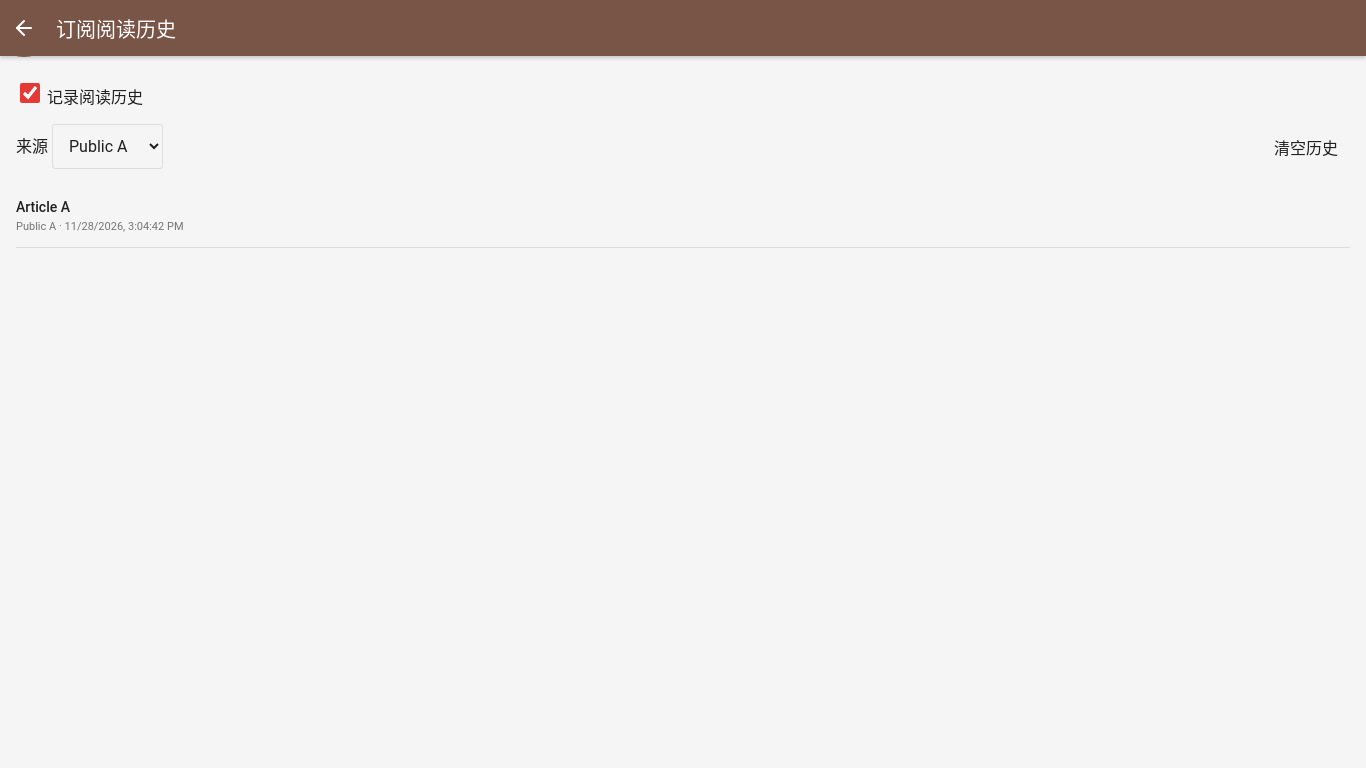
Scenario: filters by source and confirms only the displayed scope with a count, including cancelled global clear
Later steps or results of the test are not shown.
Check: the number of elements with class "source-row" is 1, box 16,185 -> 1350,248
Click the button "清空历史". click: click(1306, 146)
box: 1262,126 -> 1350,166
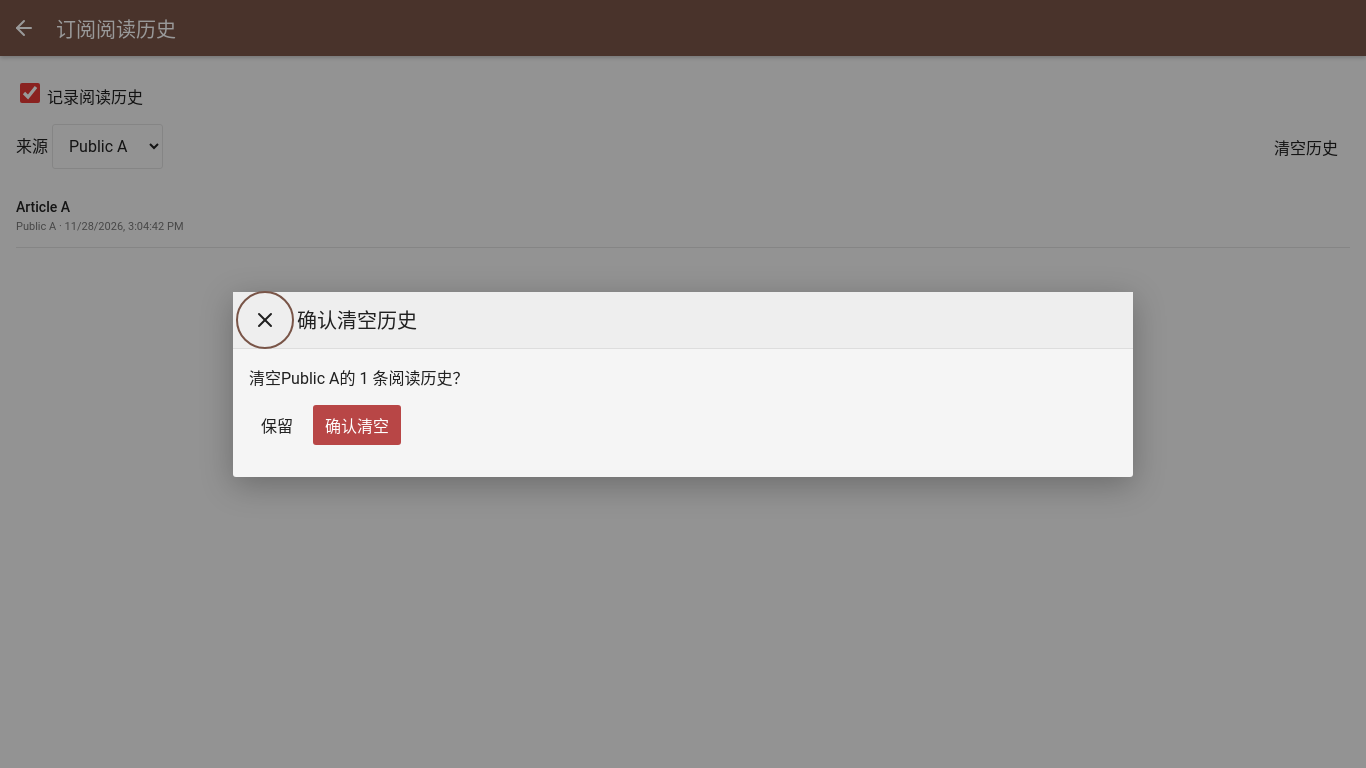
Check: the text "Public A的 1 条阅读历史" is shown, box 249,368 -> 468,388
Click the button "保留". click: click(277, 424)
box: 249,404 -> 305,444
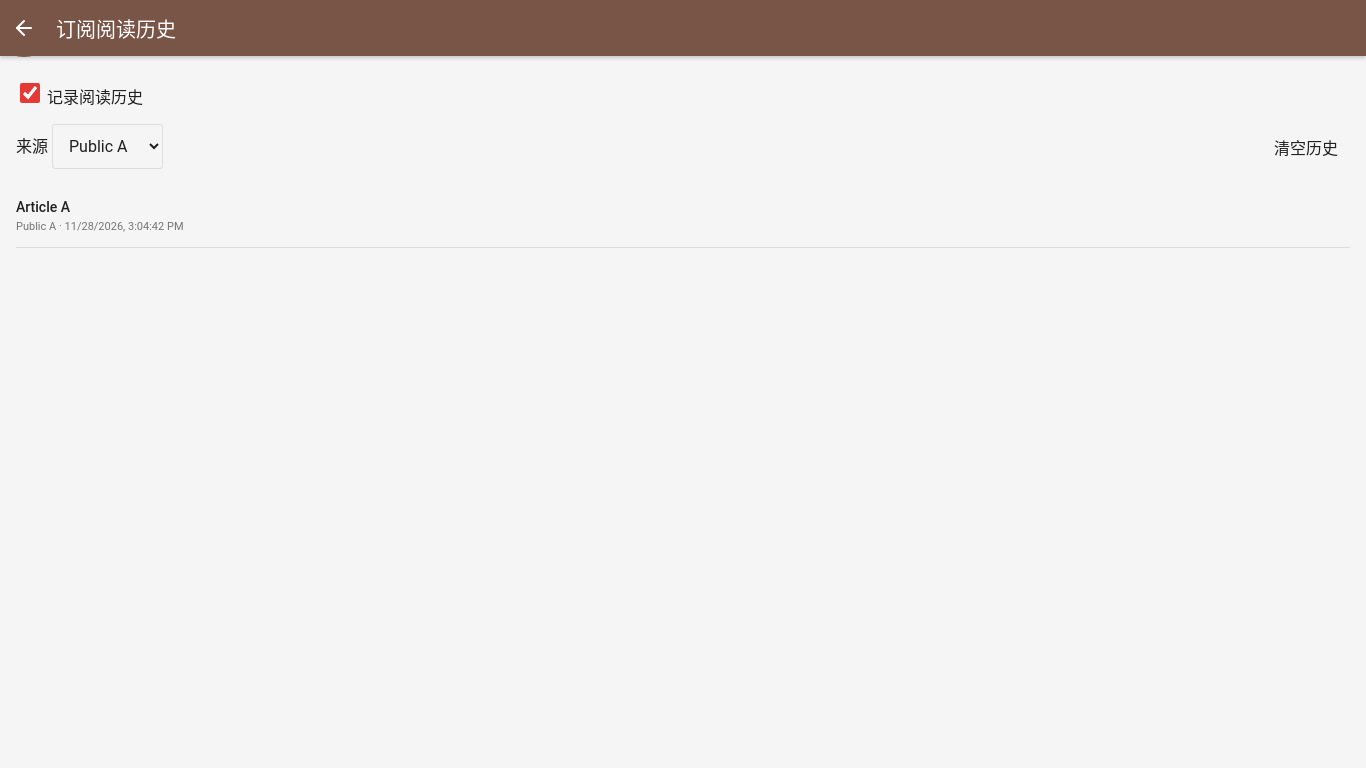
Click the button "清空历史". click: click(1306, 146)
box: 1262,126 -> 1350,166
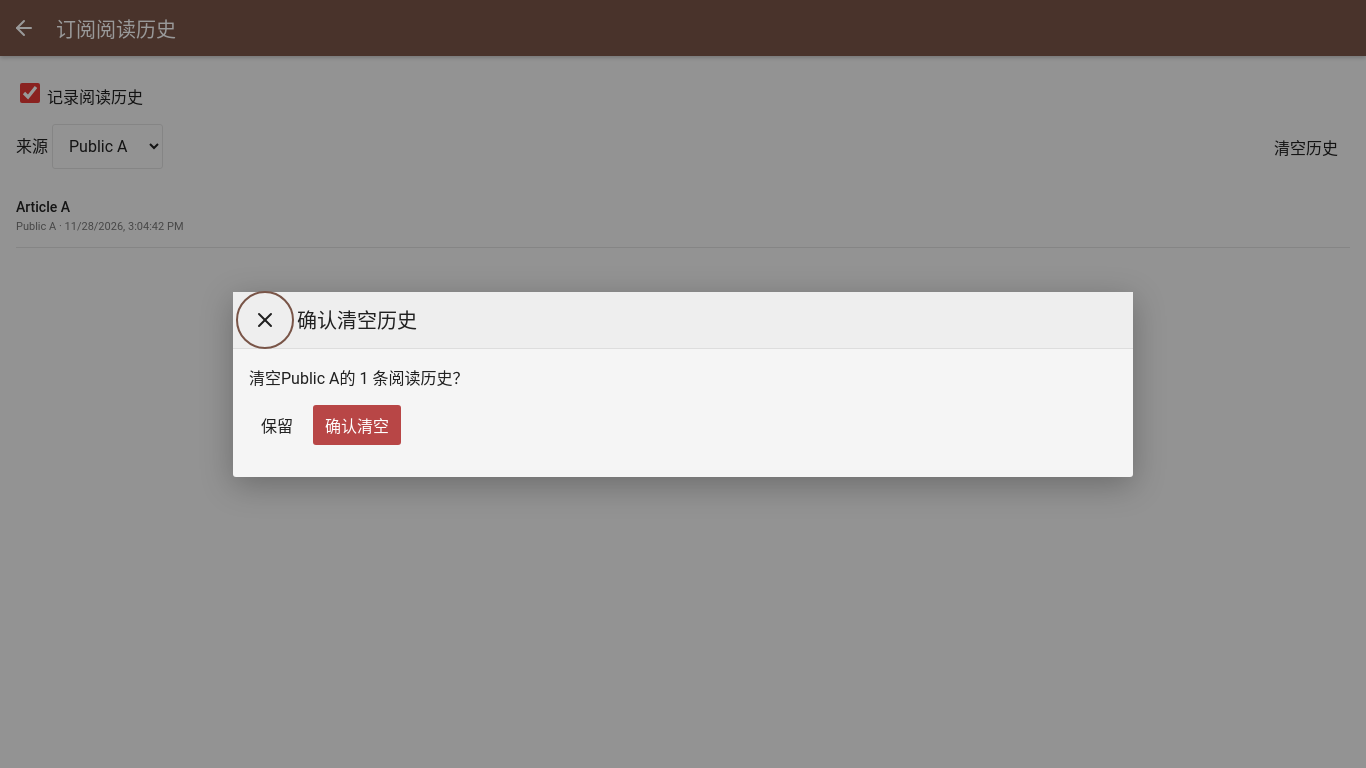
Click the button "确认清空". click: click(357, 424)
box: 313,404 -> 401,444
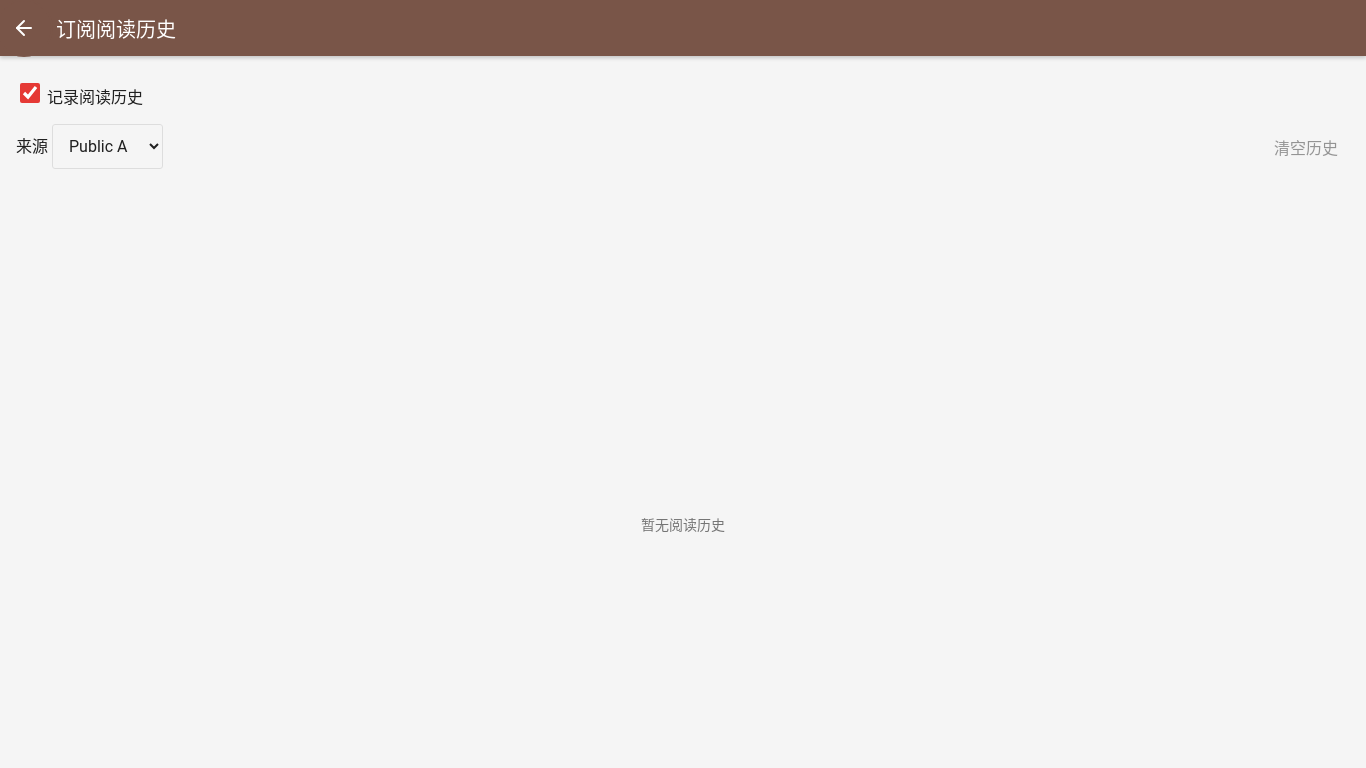
Check: the text "暂无阅读历史" is shown, box 641,517 -> 725,533
Select "全部来源" in the dropdown labelled "来源". click: (108, 146)
box: 52,124 -> 163,169
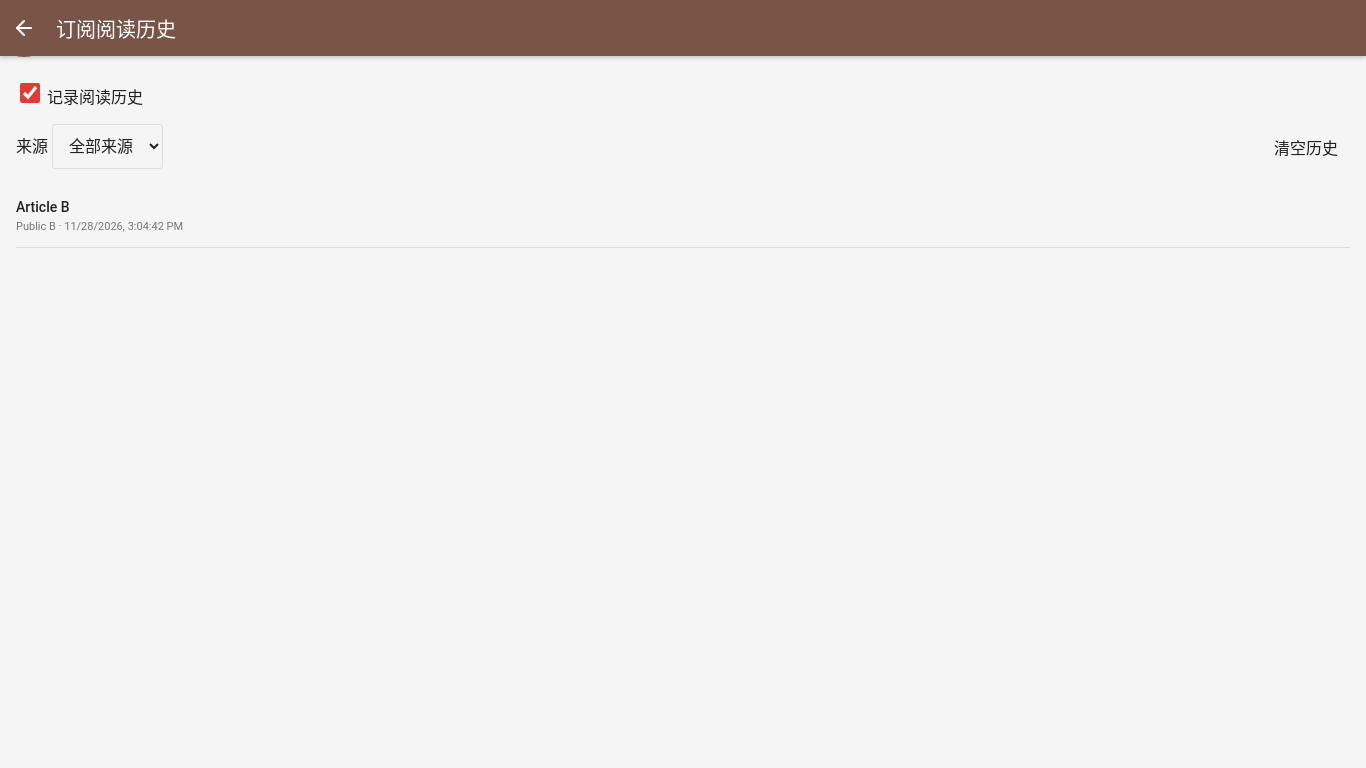
Click the button "清空历史". click: click(1306, 146)
box: 1262,126 -> 1350,166
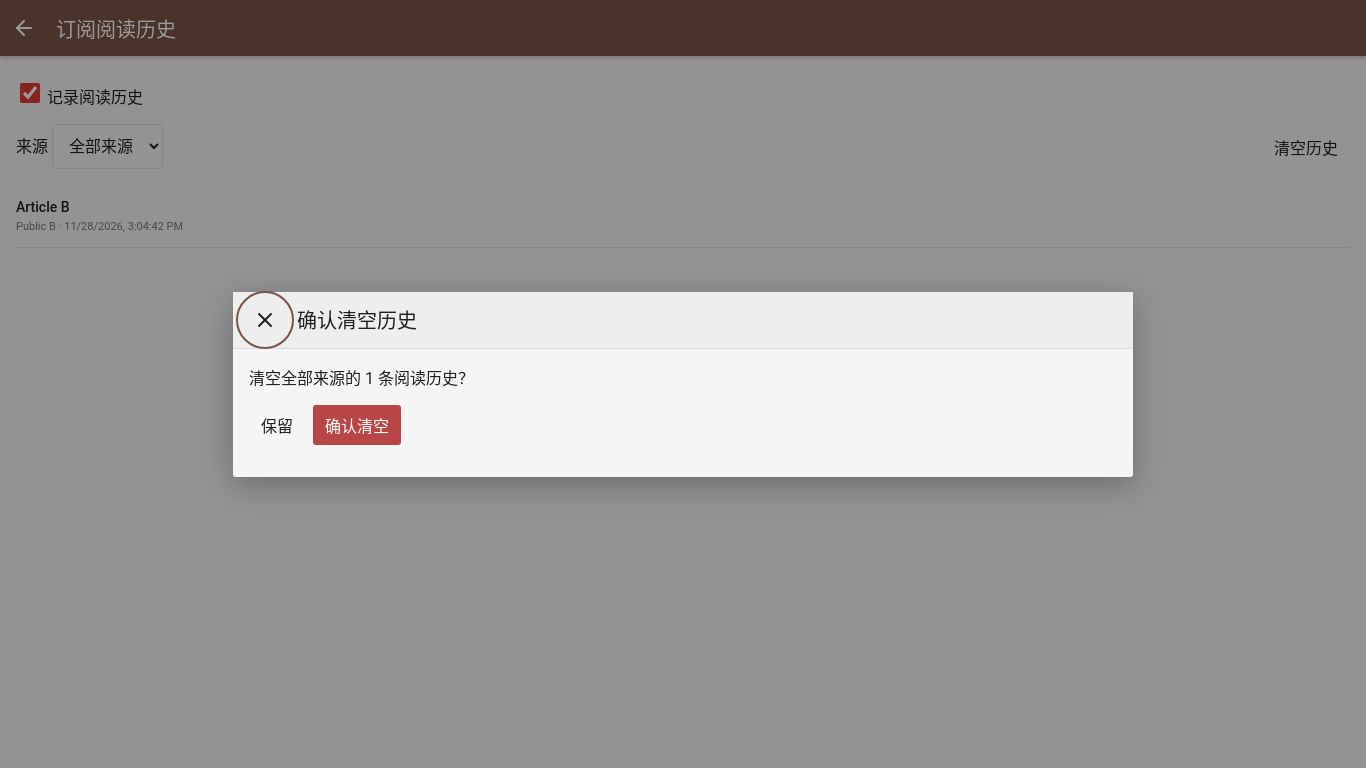
Check: the text "全部来源的 1 条阅读历史" is shown, box 249,368 -> 474,388
